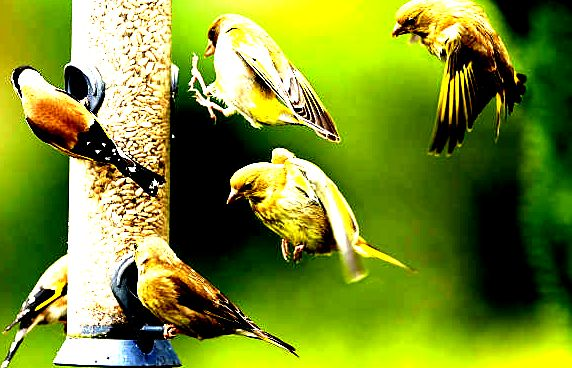Bird: (224, 146, 426, 287), (388, 1, 530, 162), (126, 233, 302, 361), (7, 62, 166, 197), (185, 10, 342, 146), (0, 248, 66, 363)
